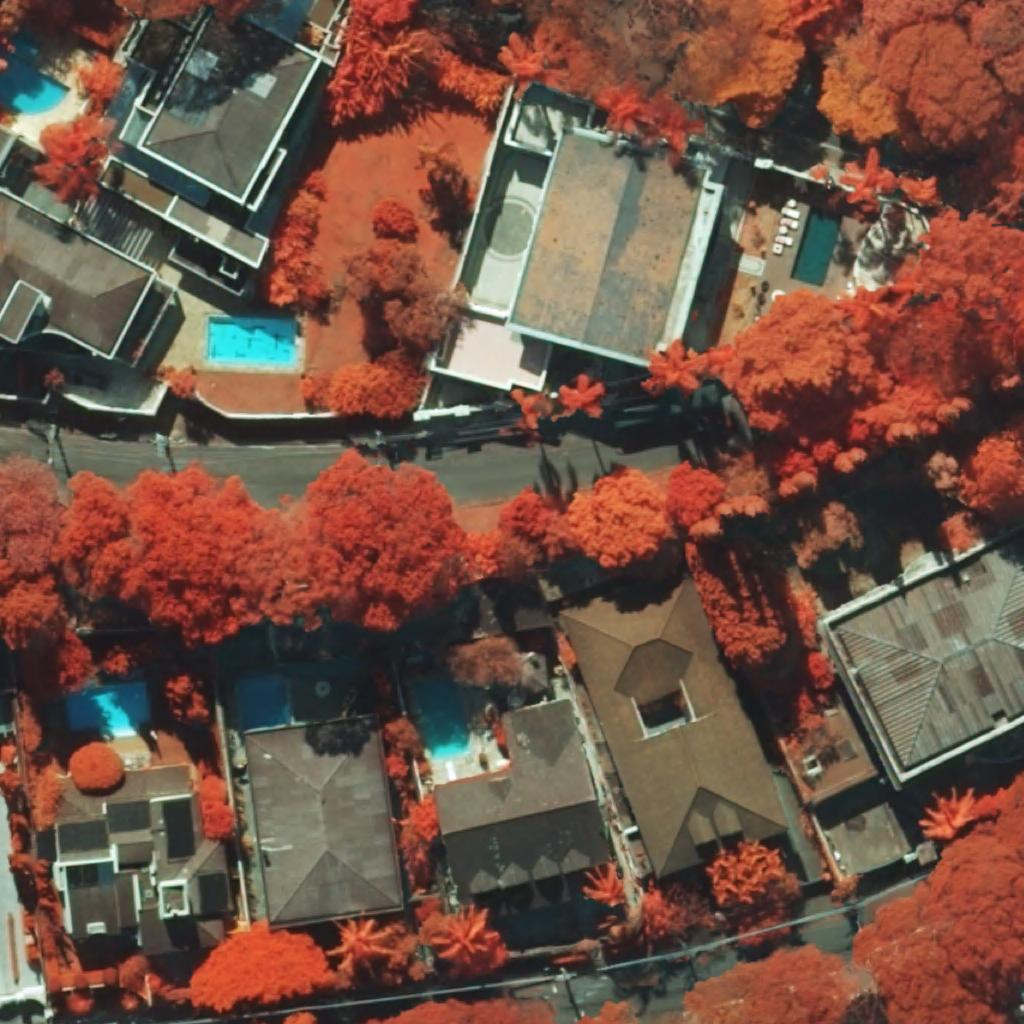pool: (0, 36, 71, 115), (418, 678, 470, 760), (208, 317, 295, 366), (69, 682, 150, 734), (790, 206, 841, 287), (236, 676, 289, 729)
